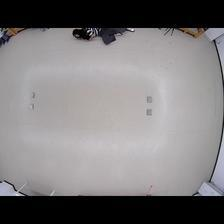fall: (70, 27, 136, 47)
